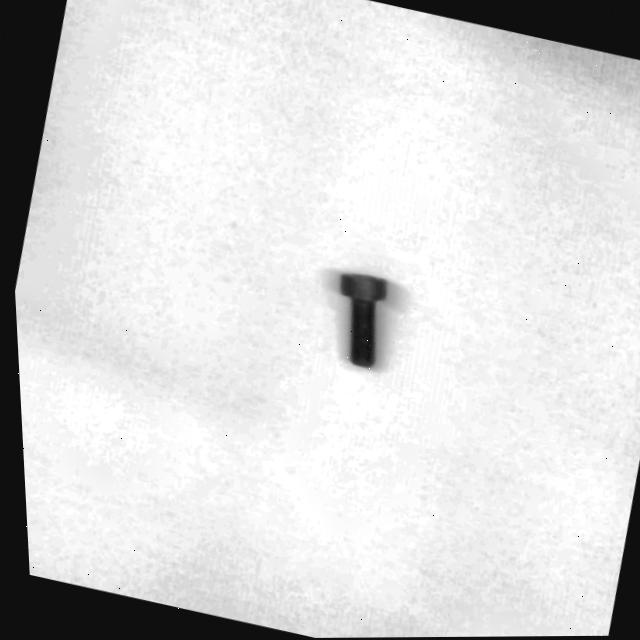Socket head cap screw: (314, 268, 392, 373)
